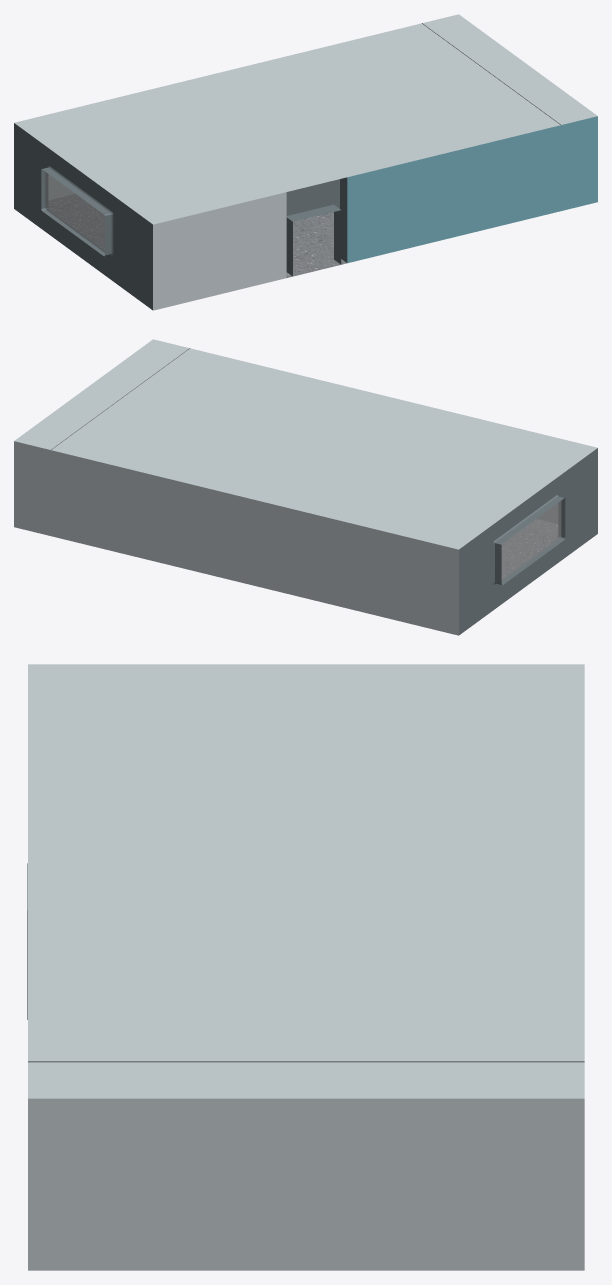
File: Shell.fbx
The picture shows the model from 3 angles, top to bottom: view 1: azimuth 30°, elevation 25°; view 2: azimuth 150°, elevation 25°; view 3: azimuth 270°, elevation 25°; orthographic projection. The views are drawn at different scales.
Parts seen in each view (by area): view 1: Ceiling, Wall2, Floor1, Glass1; view 2: Ceiling, Wall2, Glass1, Floor1; view 3: Ceiling, Wall2, Wall1.
Boxes of the visible parts, box(x1,y1,x2,y2) form: Ceiling: box(14, 14, 597, 224); Wall2: box(14, 116, 597, 310); Floor1: box(48, 194, 346, 277); Glass1: box(45, 172, 104, 252); Ceiling: box(14, 339, 597, 549); Wall2: box(14, 441, 597, 635); Glass1: box(501, 501, 561, 581); Floor1: box(502, 519, 557, 578); Ceiling: box(28, 664, 584, 1098); Wall2: box(27, 863, 584, 1270); Wall1: box(28, 1061, 584, 1062).
Bounding box in the file's own units: 1832 × 335 × 977.
Materials: 4 (2 with a texture image).
